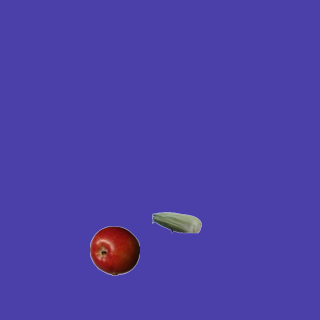Apple Braeburn: (89, 225, 139, 275)
Corn Husk: (151, 197, 201, 247)
